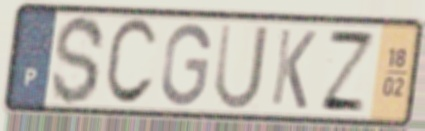C: (101, 15, 161, 109)
G: (158, 21, 214, 109)
K: (268, 25, 319, 113)
S: (49, 13, 108, 108)
U: (211, 20, 271, 113)
Z: (316, 27, 379, 116)
